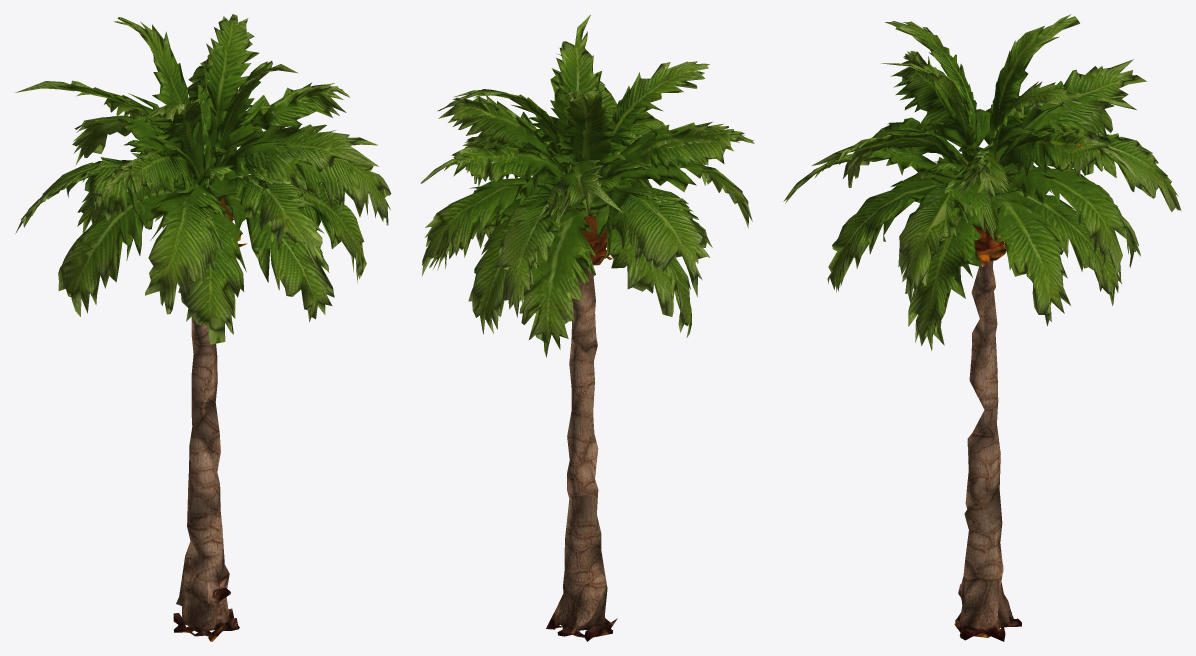
Rendered from date_palm_tall_game.glb.
3 views of the same model, side by side, from view 1: azimuth 30°, elevation 25°; view 2: azimuth 150°, elevation 25°; view 3: azimuth 270°, elevation 25° (orthographic). The views are drawn at different scales.
Parts seen in each view (by area): view 1: tripo_node_bef1c666-bd54-41bd-9154-79a87feed035; view 2: tripo_node_bef1c666-bd54-41bd-9154-79a87feed035; view 3: tripo_node_bef1c666-bd54-41bd-9154-79a87feed035.
Boxes of the visible parts, left/top/right/bottom form: tripo_node_bef1c666-bd54-41bd-9154-79a87feed035: left=15, top=14, right=391, bottom=641; tripo_node_bef1c666-bd54-41bd-9154-79a87feed035: left=420, top=15, right=754, bottom=641; tripo_node_bef1c666-bd54-41bd-9154-79a87feed035: left=783, top=14, right=1181, bottom=641.
Bounding box in the file's own units: 0.5393 × 0.9775 × 0.5933.
Materials: 1 (1 with a texture image).
